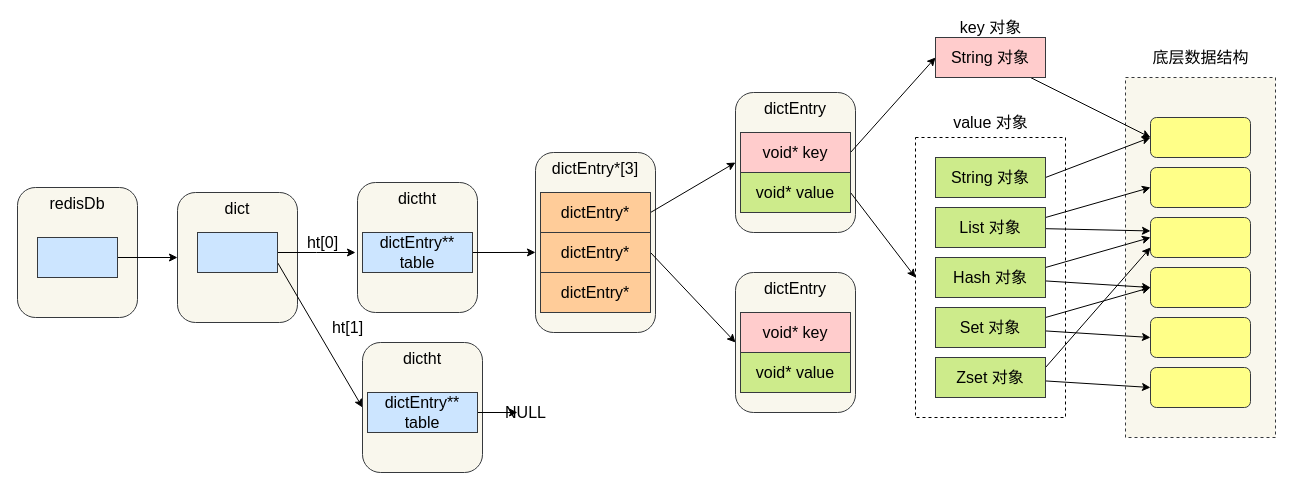
Image size: 1293x490. Some labels were removed from this diagram. The centre of each missing label's shape, as x and y in pixels:
"dict* dict" belongs at [77,257].
"dictht ht[2]" belongs at [237,252].
"SDS" belongs at [1200,137].
"压缩列表" belongs at [1200,237].
"双向链表" belongs at [1200,187].
"哈希表" belongs at [1200,287].
"整数集合" belongs at [1200,337].
"跳表" belongs at [1200,387].
